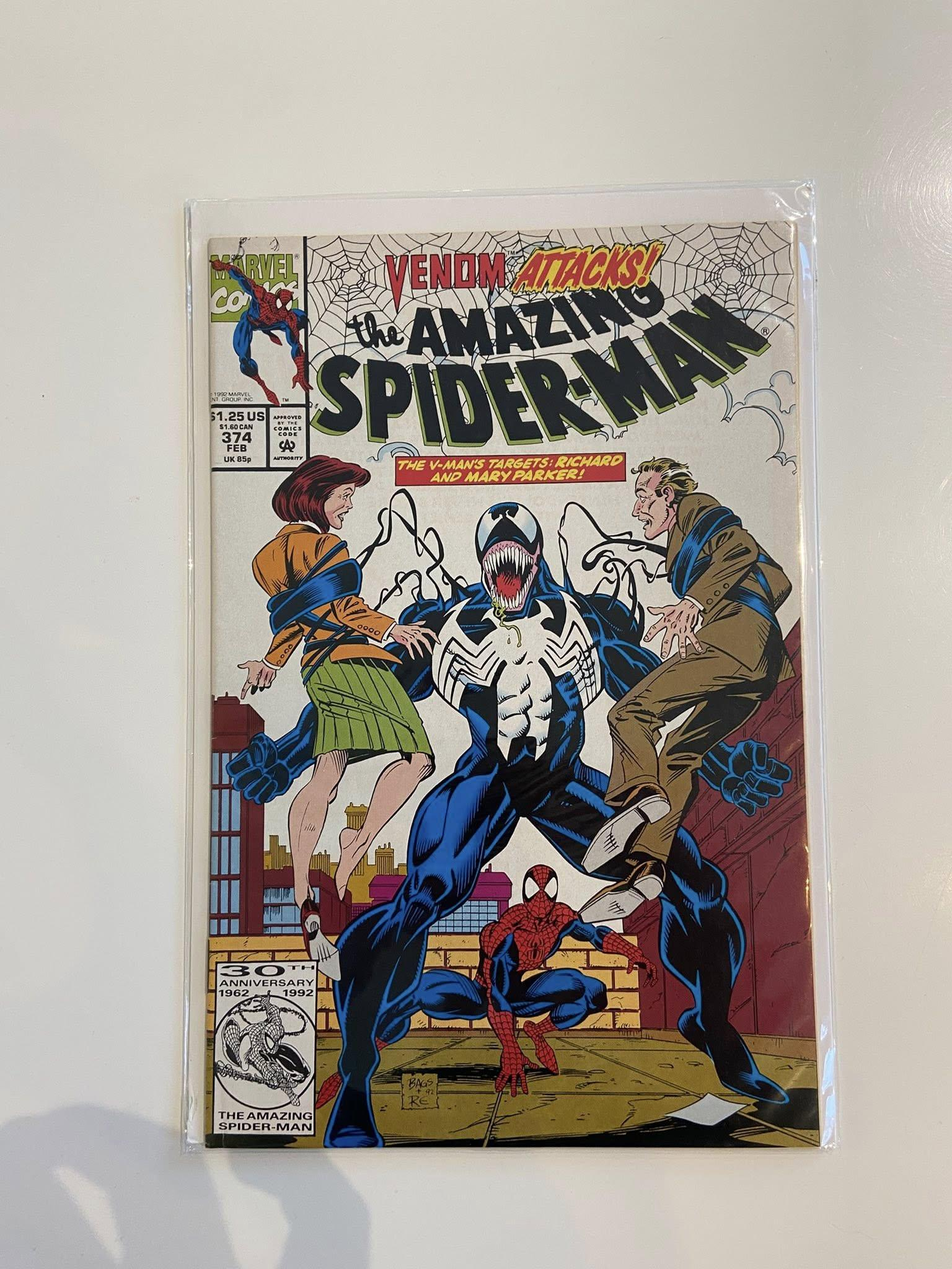comic: (178, 220, 822, 1161)
